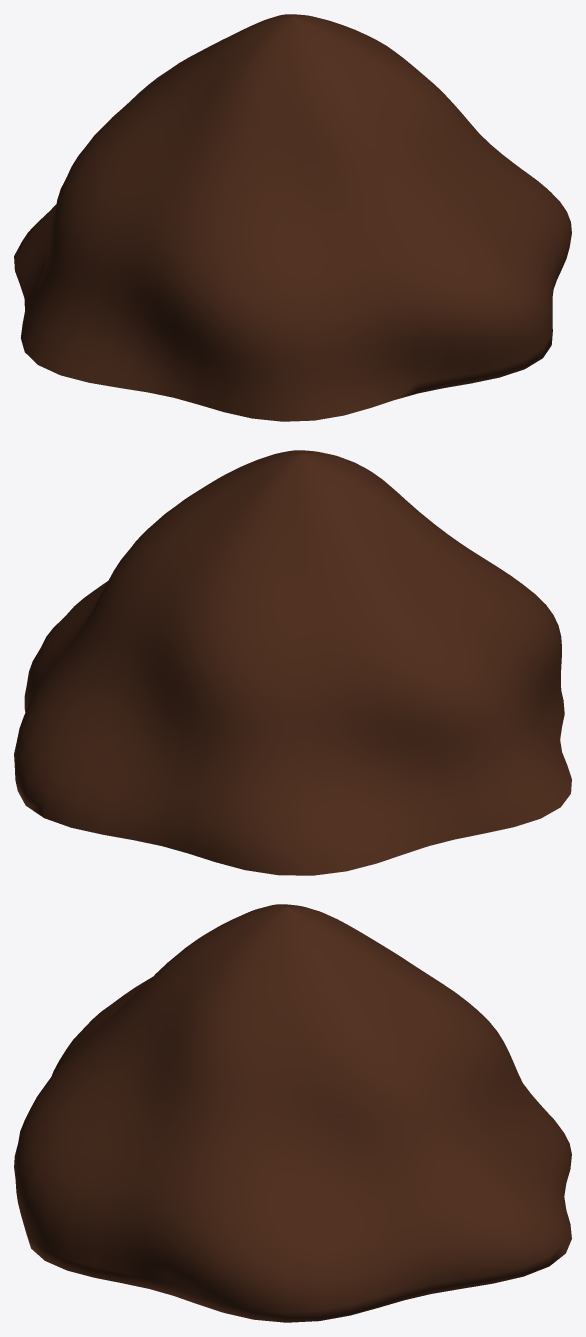
File: topping-creme-de-avela.glb
3 views of the same model, one above another, from view 1: azimuth 30°, elevation 25°; view 2: azimuth 150°, elevation 25°; view 3: azimuth 270°, elevation 25° (orthographic).
Parts seen in each view (by area): view 1: topping-creme-de-avela; view 2: topping-creme-de-avela; view 3: topping-creme-de-avela.
Part boxes in pixels (x1,y1,x2,y2): topping-creme-de-avela: (14, 14, 571, 421); topping-creme-de-avela: (14, 450, 571, 875); topping-creme-de-avela: (14, 904, 571, 1322).
Size of the model in its own units: 0.0286 by 0.0152 by 0.0266.
